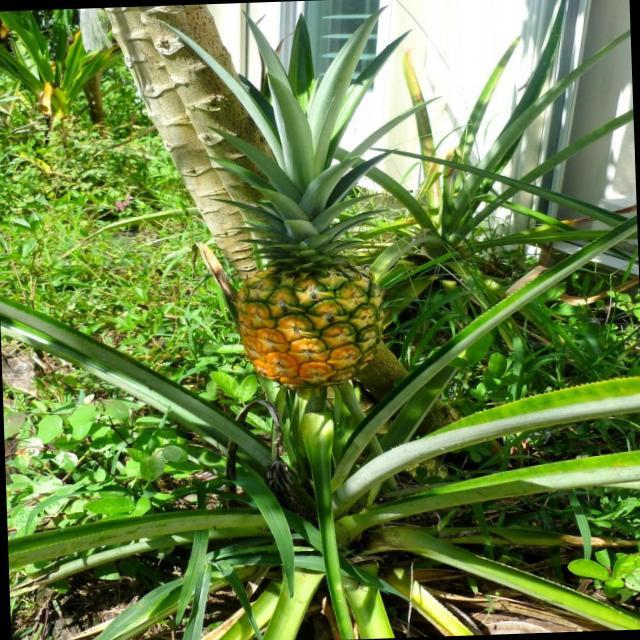PINEAPLE: (215, 12, 392, 384)
